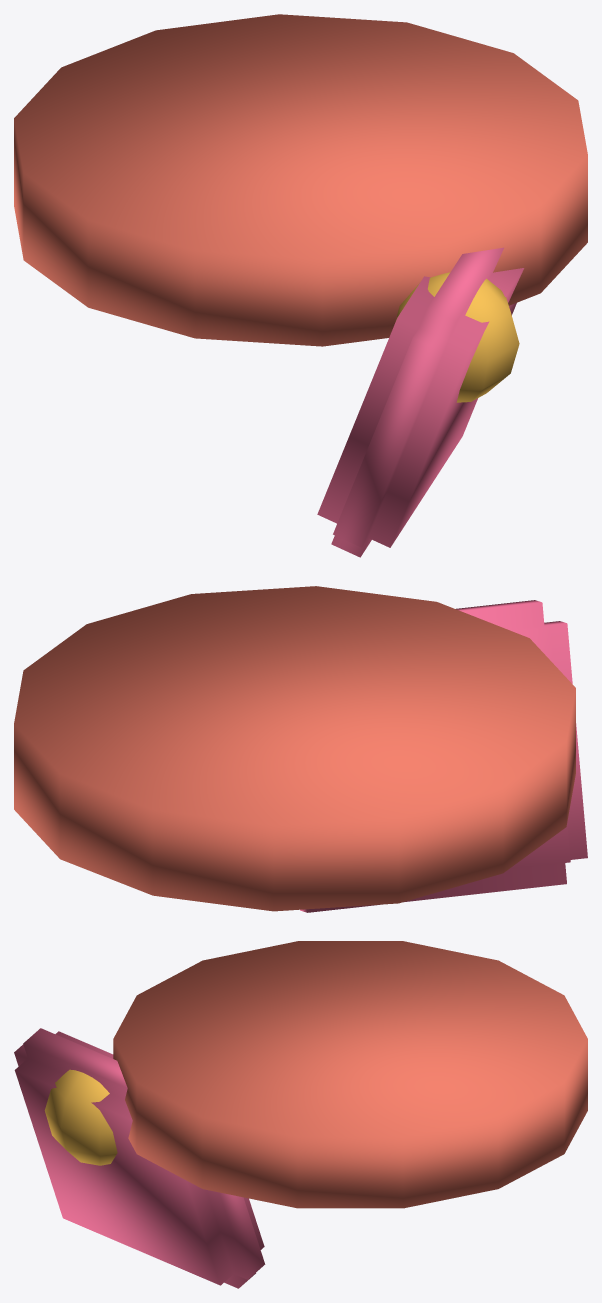
File: PetBandanaProp.fbx
The picture shows the model from 3 angles, top to bottom: view 1: azimuth 30°, elevation 25°; view 2: azimuth 150°, elevation 25°; view 3: azimuth 270°, elevation 25°; orthographic projection. The views are drawn at different scales.
Parts seen in each view (by area): view 1: PetBandanaProp; view 2: PetBandanaProp; view 3: PetBandanaProp.
Boxes of the visible parts, <box> form: PetBandanaProp: <box>14,14,587,557</box>; PetBandanaProp: <box>14,586,587,912</box>; PetBandanaProp: <box>14,941,587,1288</box>.
Size of the model in its own units: 0.351 by 0.188 by 0.4353.
